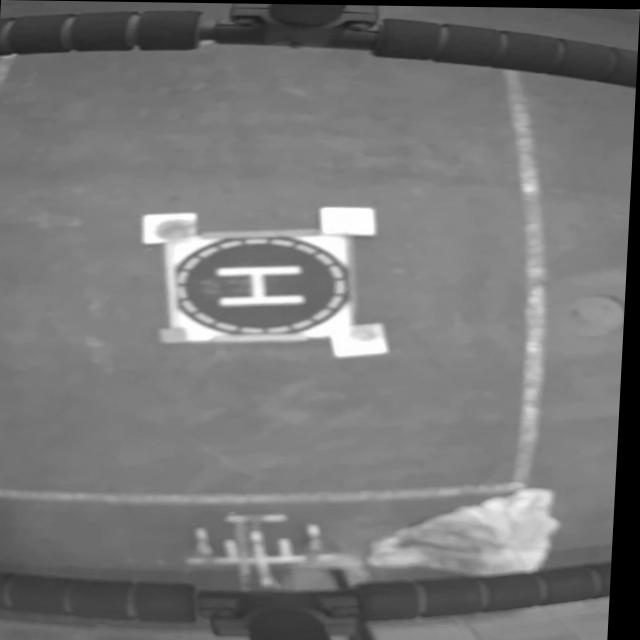Helipad: (217, 265, 305, 307)
